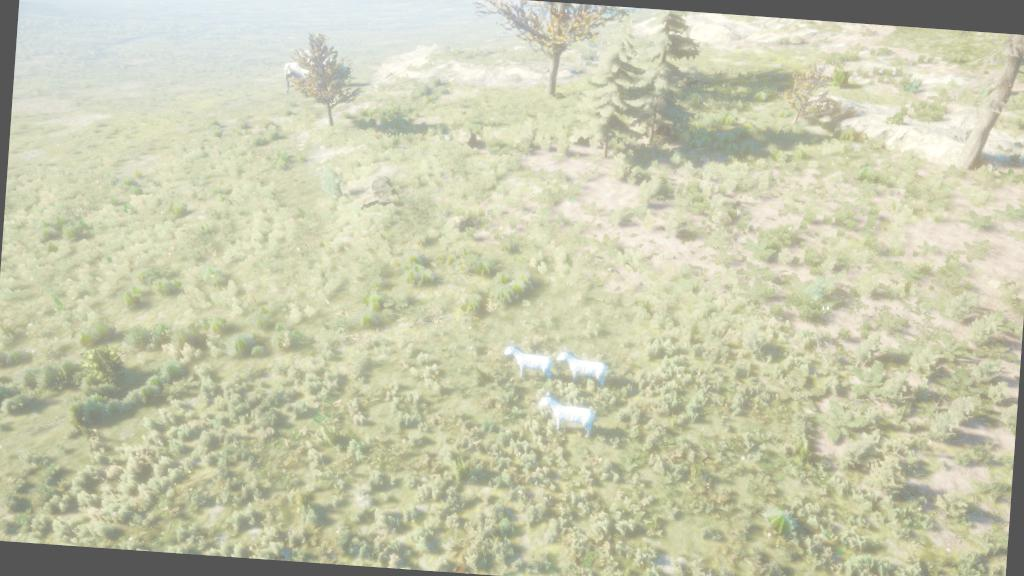zebra: (536, 393, 598, 439), (500, 342, 557, 382), (554, 348, 608, 388)
